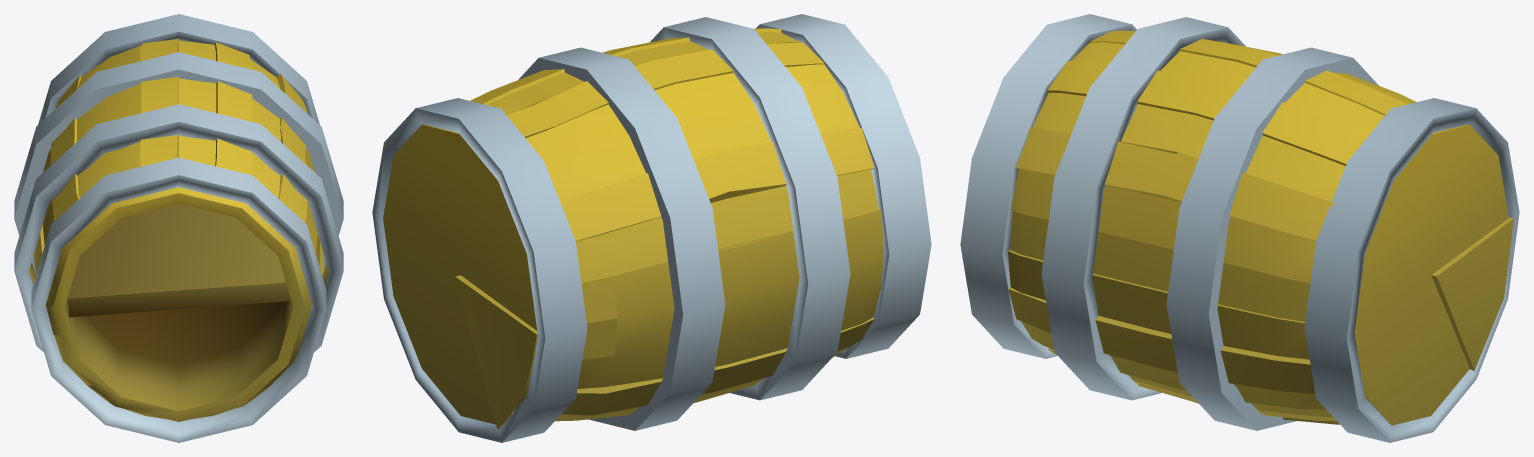
File: barrel.fbx
3 views of the same model, side by side, from view 1: azimuth 30°, elevation 25°; view 2: azimuth 150°, elevation 25°; view 3: azimuth 270°, elevation 25° (orthographic). The views are drawn at different scales.
Parts seen in each view (by area): view 1: barrel; view 2: barrel; view 3: barrel.
Boxes of the visible parts, bbox=[...] form: barrel: bbox=[14, 14, 343, 442]; barrel: bbox=[372, 14, 931, 442]; barrel: bbox=[960, 14, 1519, 442].
Bounding box in the file's own units: 0.0109 × 0.00803 × 0.0116.
1 material, 1 textured.
